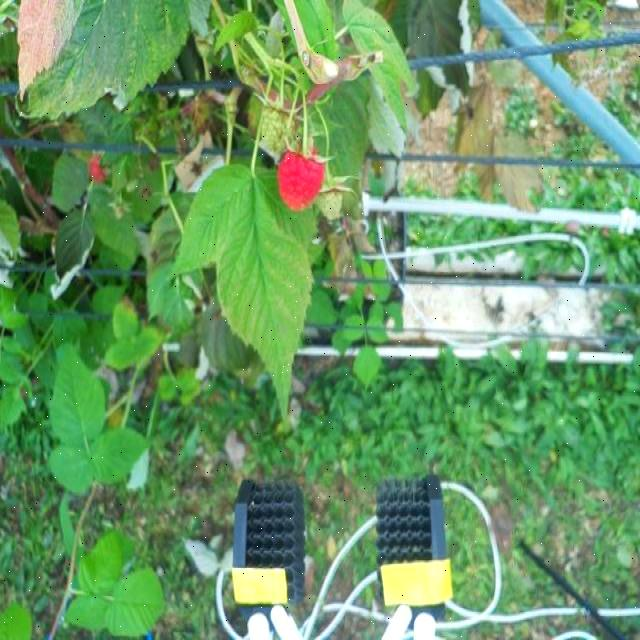Riped berries: (274, 143, 326, 212), (90, 148, 114, 185)
